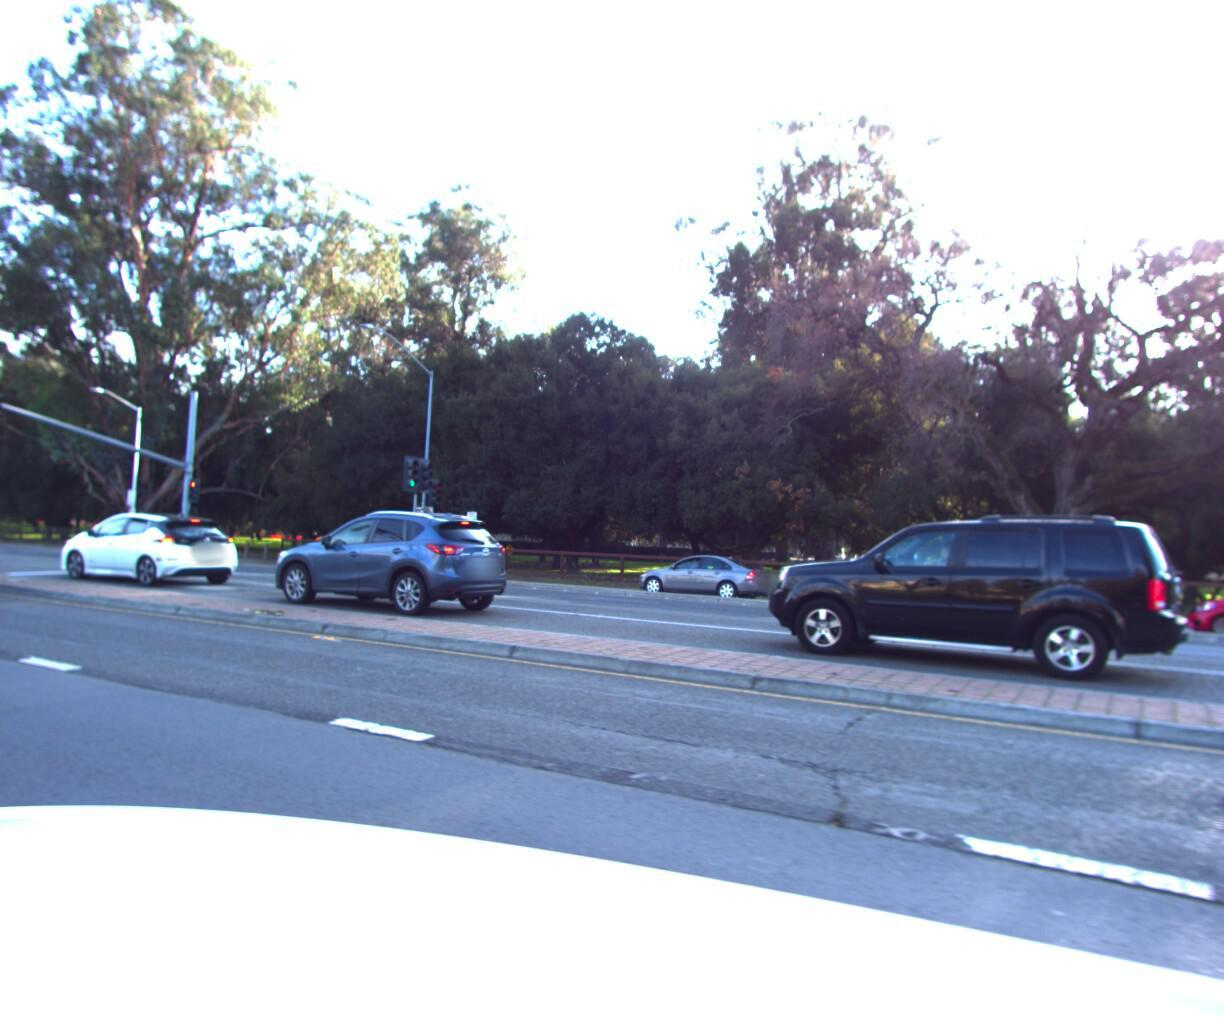car: (749, 500, 1192, 692), (252, 504, 522, 624), (47, 507, 247, 590), (628, 548, 778, 602), (1178, 568, 1224, 649), (0, 502, 7, 610)
